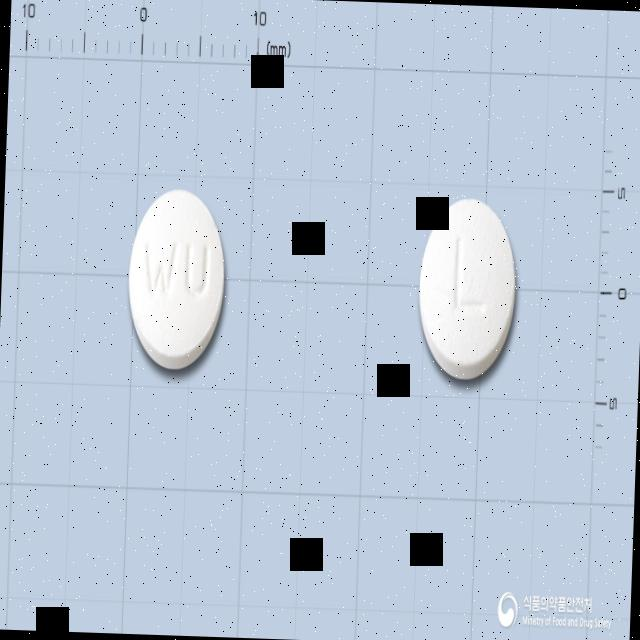Levofloxacin: (124, 186, 228, 372), (416, 195, 518, 382)
